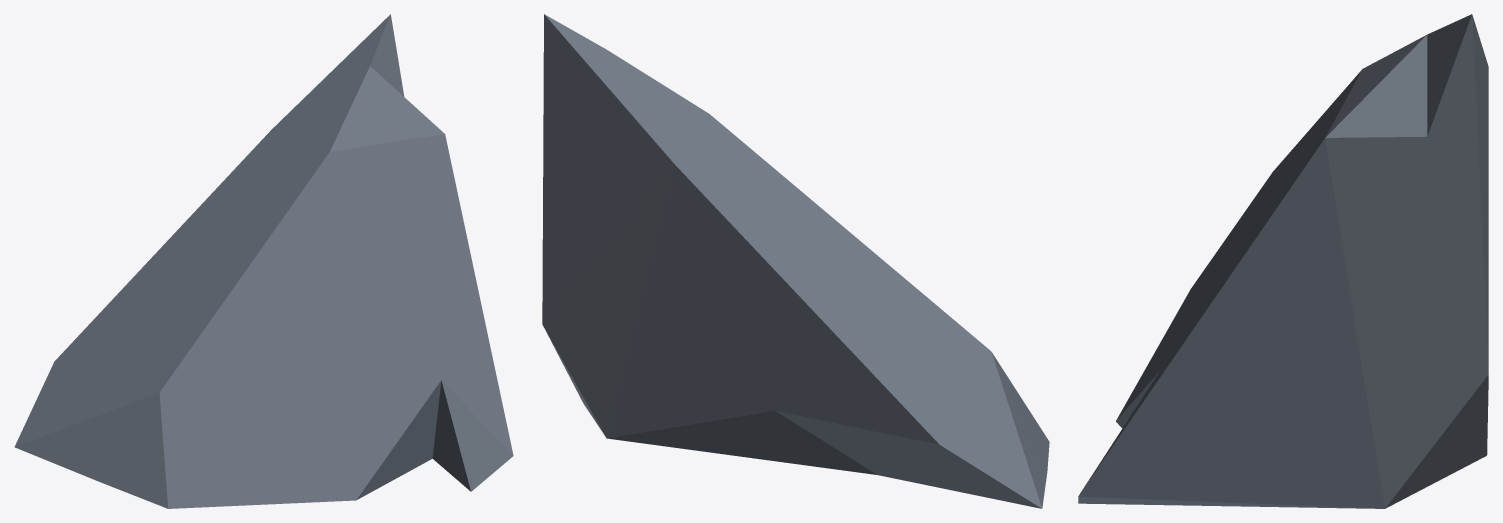
The model's file is WallPiece11.fbx.
3 views of the same model, side by side, from view 1: azimuth 30°, elevation 25°; view 2: azimuth 150°, elevation 25°; view 3: azimuth 270°, elevation 25° (orthographic). The views are drawn at different scales.
Visible parts, largest first — view 1: WallPiece11; view 2: WallPiece11; view 3: WallPiece11.
Part boxes in pixels (bbox=[...]): WallPiece11: bbox=[14, 14, 513, 508]; WallPiece11: bbox=[542, 14, 1049, 508]; WallPiece11: bbox=[1078, 14, 1488, 508].
Bounding box in the file's own units: 122 × 107 × 75.43.
